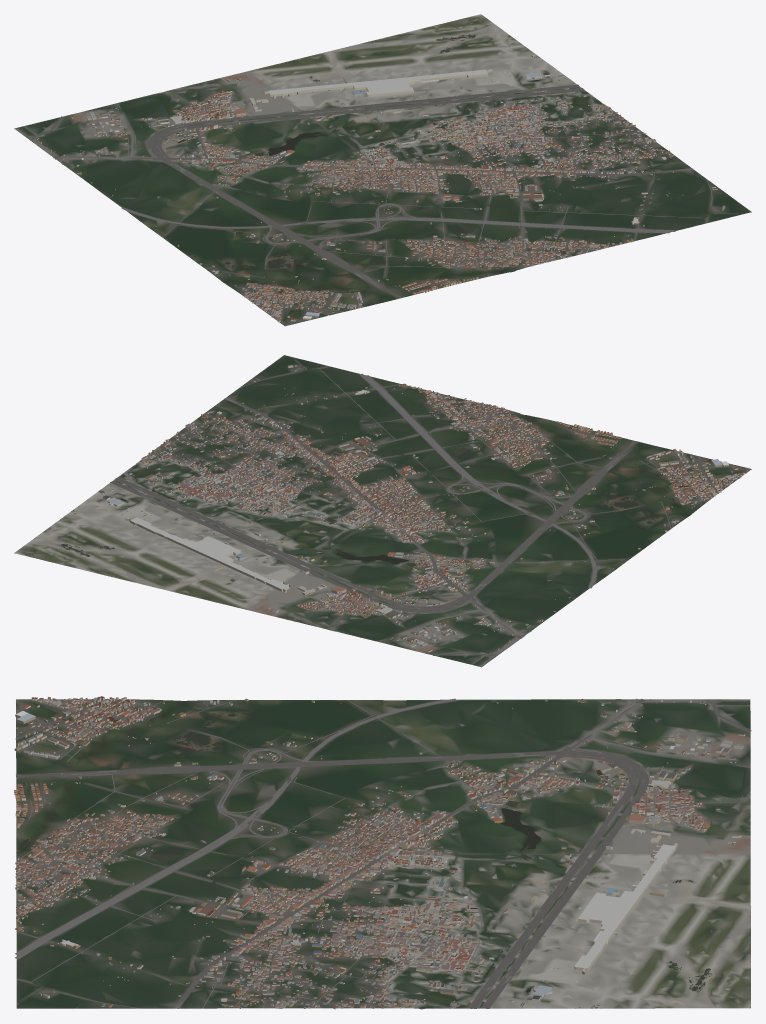
3 views of the same model, one above another, from view 1: azimuth 30°, elevation 25°; view 2: azimuth 150°, elevation 25°; view 3: azimuth 270°, elevation 25° (orthographic). The views are drawn at different scales.
Parts seen in each view (by area): view 1: ground, buildings, roads, water; view 2: ground, buildings, roads, water; view 3: ground, buildings, roads, water.
Part boxes in pixels (x1,y1,x2,y2): ground: (14,14,751,326); buildings: (36,46,725,323); roads: (15,84,725,325); water: (216,34,600,290); ground: (14,355,751,667); buildings: (66,365,747,653); roads: (110,356,749,666); water: (57,414,688,584); ground: (16,699,750,1009); buildings: (14,696,744,1009); roads: (15,698,751,1008); water: (17,702,712,1008).
Bounding box in the file's own units: 2814 × 37.15 × 2817.
